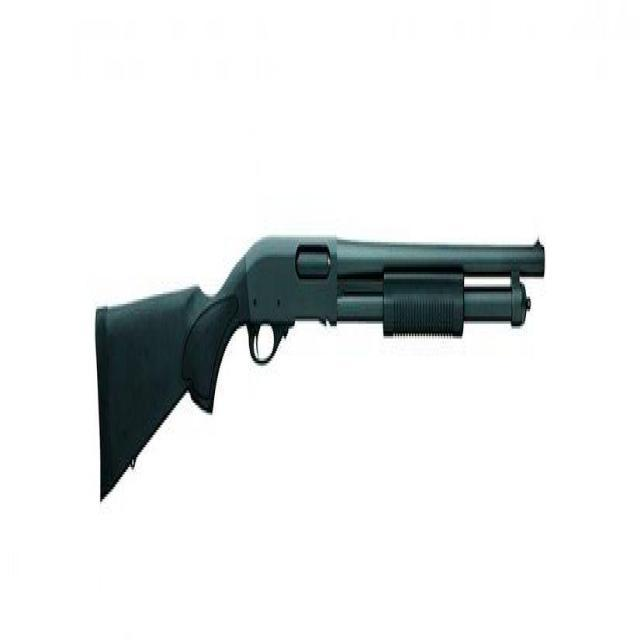weapon: (94, 229, 547, 506)
